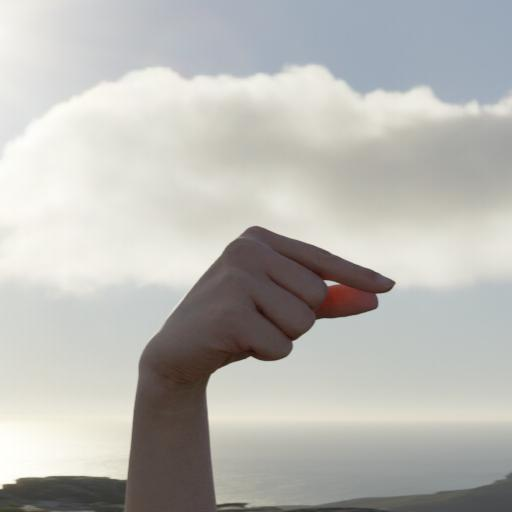G: (132, 207, 398, 402)
